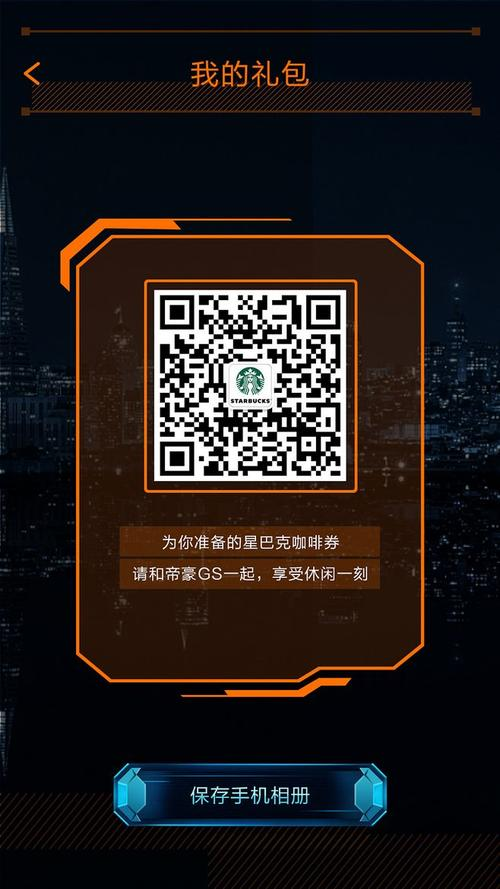QRCode: (152, 293, 348, 482)
